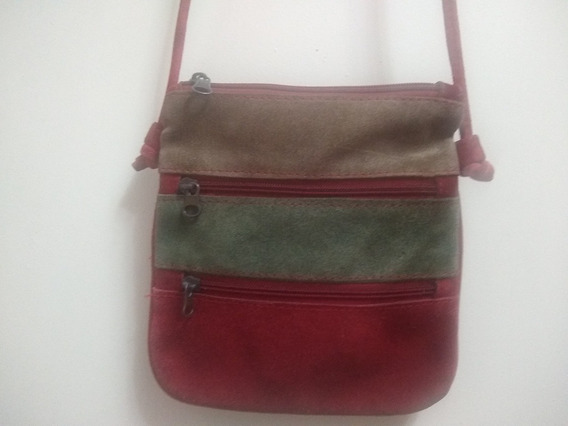cartera: (134, 1, 495, 417)
